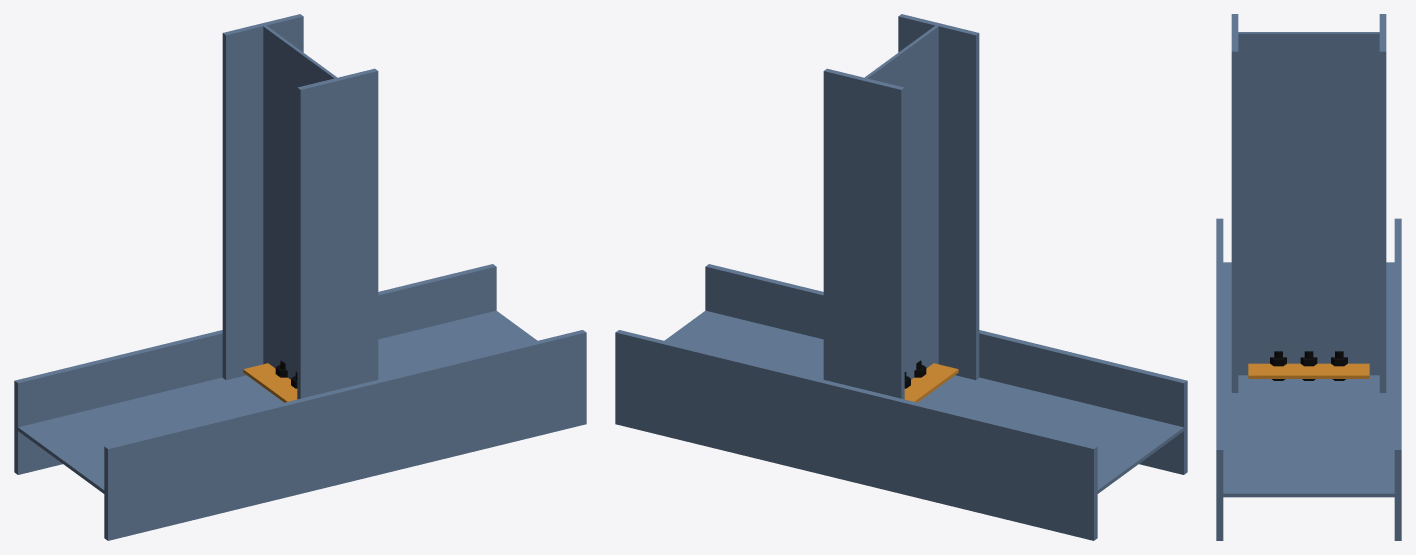
Rendered from detail_B5_beam_to_beam_connection.obj.
3 renders of one model, left to right at view 1: azimuth 30°, elevation 25°; view 2: azimuth 150°, elevation 25°; view 3: azimuth 270°, elevation 25°, orthographic.
Visible parts, largest first — view 1: B5_primary_beam_top_flange, B5_secondary_beam_top_flange, B5_primary_beam_bottom_flange, B5_primary_beam_web, B5_secondary_beam_bottom_flange, B5_secondary_beam_web, B5_PL6_fin_plate_100x200; view 2: B5_primary_beam_bottom_flange, B5_secondary_beam_bottom_flange, B5_primary_beam_top_flange, B5_primary_beam_web, B5_secondary_beam_top_flange, B5_secondary_beam_web, B5_PL6_fin_plate_100x200; view 3: B5_secondary_beam_web, B5_primary_beam_web, B5_secondary_beam_top_flange, B5_secondary_beam_bottom_flange, B5_primary_beam_top_flange, B5_primary_beam_bottom_flange, B5_PL6_fin_plate_100x200, bolt_M16_B5_2.
Part boxes in pixels (x1,y1,x2,y2): B5_primary_beam_top_flange: (104,330,586,540); B5_secondary_beam_top_flange: (297,68,378,399); B5_primary_beam_bottom_flange: (14,264,496,474); B5_primary_beam_web: (18,310,537,493); B5_secondary_beam_bottom_flange: (222,14,303,380); B5_secondary_beam_web: (263,25,336,379); B5_PL6_fin_plate_100x200: (243,363,297,402); B5_primary_beam_bottom_flange: (615,330,1097,540); B5_secondary_beam_bottom_flange: (823,68,904,399); B5_primary_beam_top_flange: (705,264,1187,474); B5_primary_beam_web: (664,310,1183,493); B5_secondary_beam_top_flange: (898,14,979,380); B5_secondary_beam_web: (865,25,938,379); B5_PL6_fin_plate_100x200: (904,363,958,402); B5_secondary_beam_web: (1238,32,1379,375); B5_primary_beam_web: (1223,262,1394,497); B5_secondary_beam_top_flange: (1231,14,1238,392); B5_secondary_beam_bottom_flange: (1379,14,1386,392); B5_primary_beam_top_flange: (1216,218,1223,540); B5_primary_beam_bottom_flange: (1394,218,1401,540); B5_PL6_fin_plate_100x200: (1248,363,1369,378); bolt_M16_B5_2: (1300,351,1317,380).
Bounding box in the file's own units: 900 × 712 × 305.
